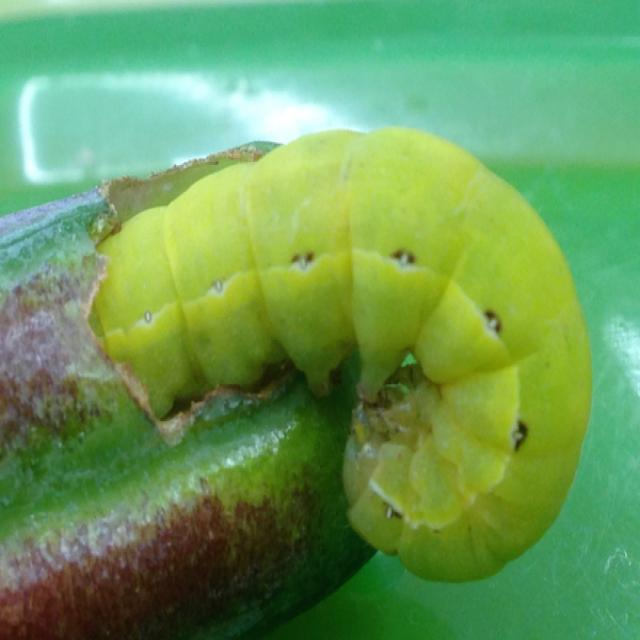caterpillar: (77, 89, 605, 606)
